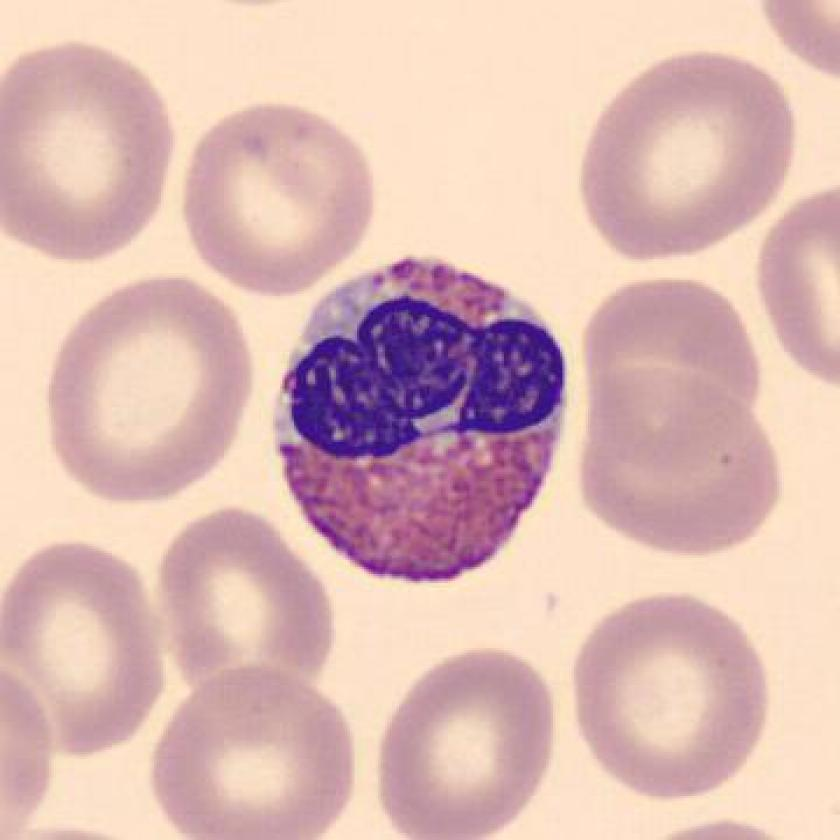eosinophil: (263, 244, 585, 596)
